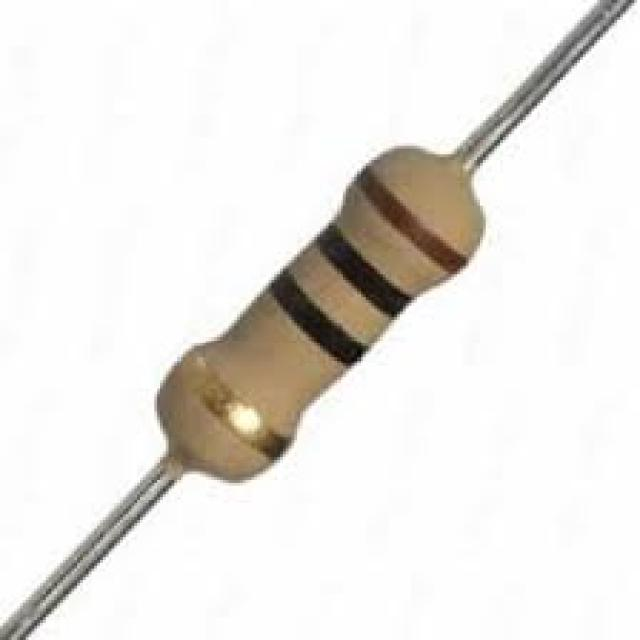Resistor: (157, 150, 476, 476)
